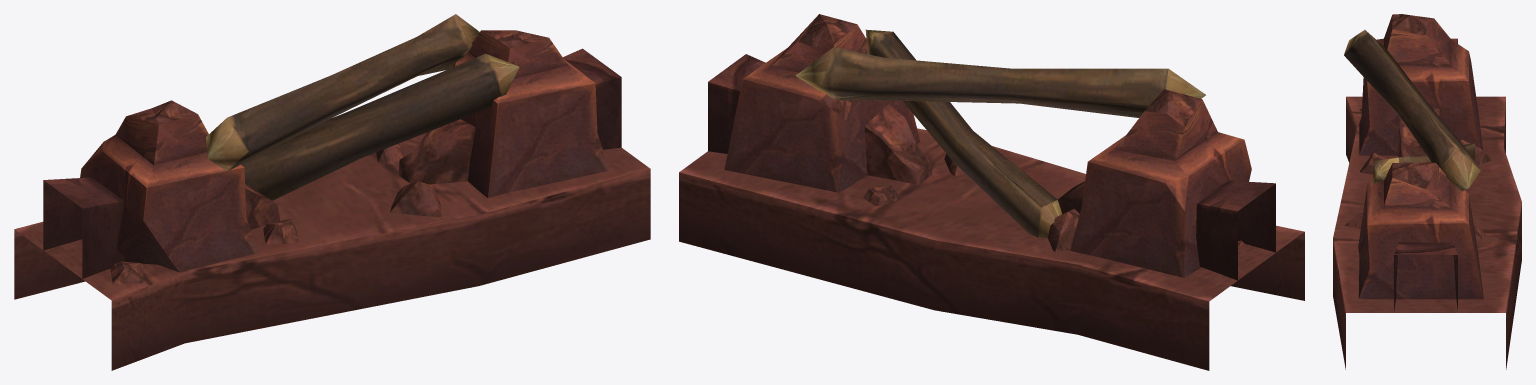
File: lava_railing_straight_04.fbx
The picture shows the model from 3 angles, left to right: view 1: azimuth 30°, elevation 25°; view 2: azimuth 150°, elevation 25°; view 3: azimuth 270°, elevation 25°; orthographic projection. The views are drawn at different scales.
Visible parts, largest first — view 1: lava_railing_straight_04-0; view 2: lava_railing_straight_04-0; view 3: lava_railing_straight_04-0.
Boxes of the visible parts, box(x1,y1,x2,y2) form: lava_railing_straight_04-0: box(14, 14, 650, 370); lava_railing_straight_04-0: box(679, 14, 1304, 370); lava_railing_straight_04-0: box(1333, 14, 1521, 369).
Size of the model in its own units: 4 by 1.54 by 1.48.
